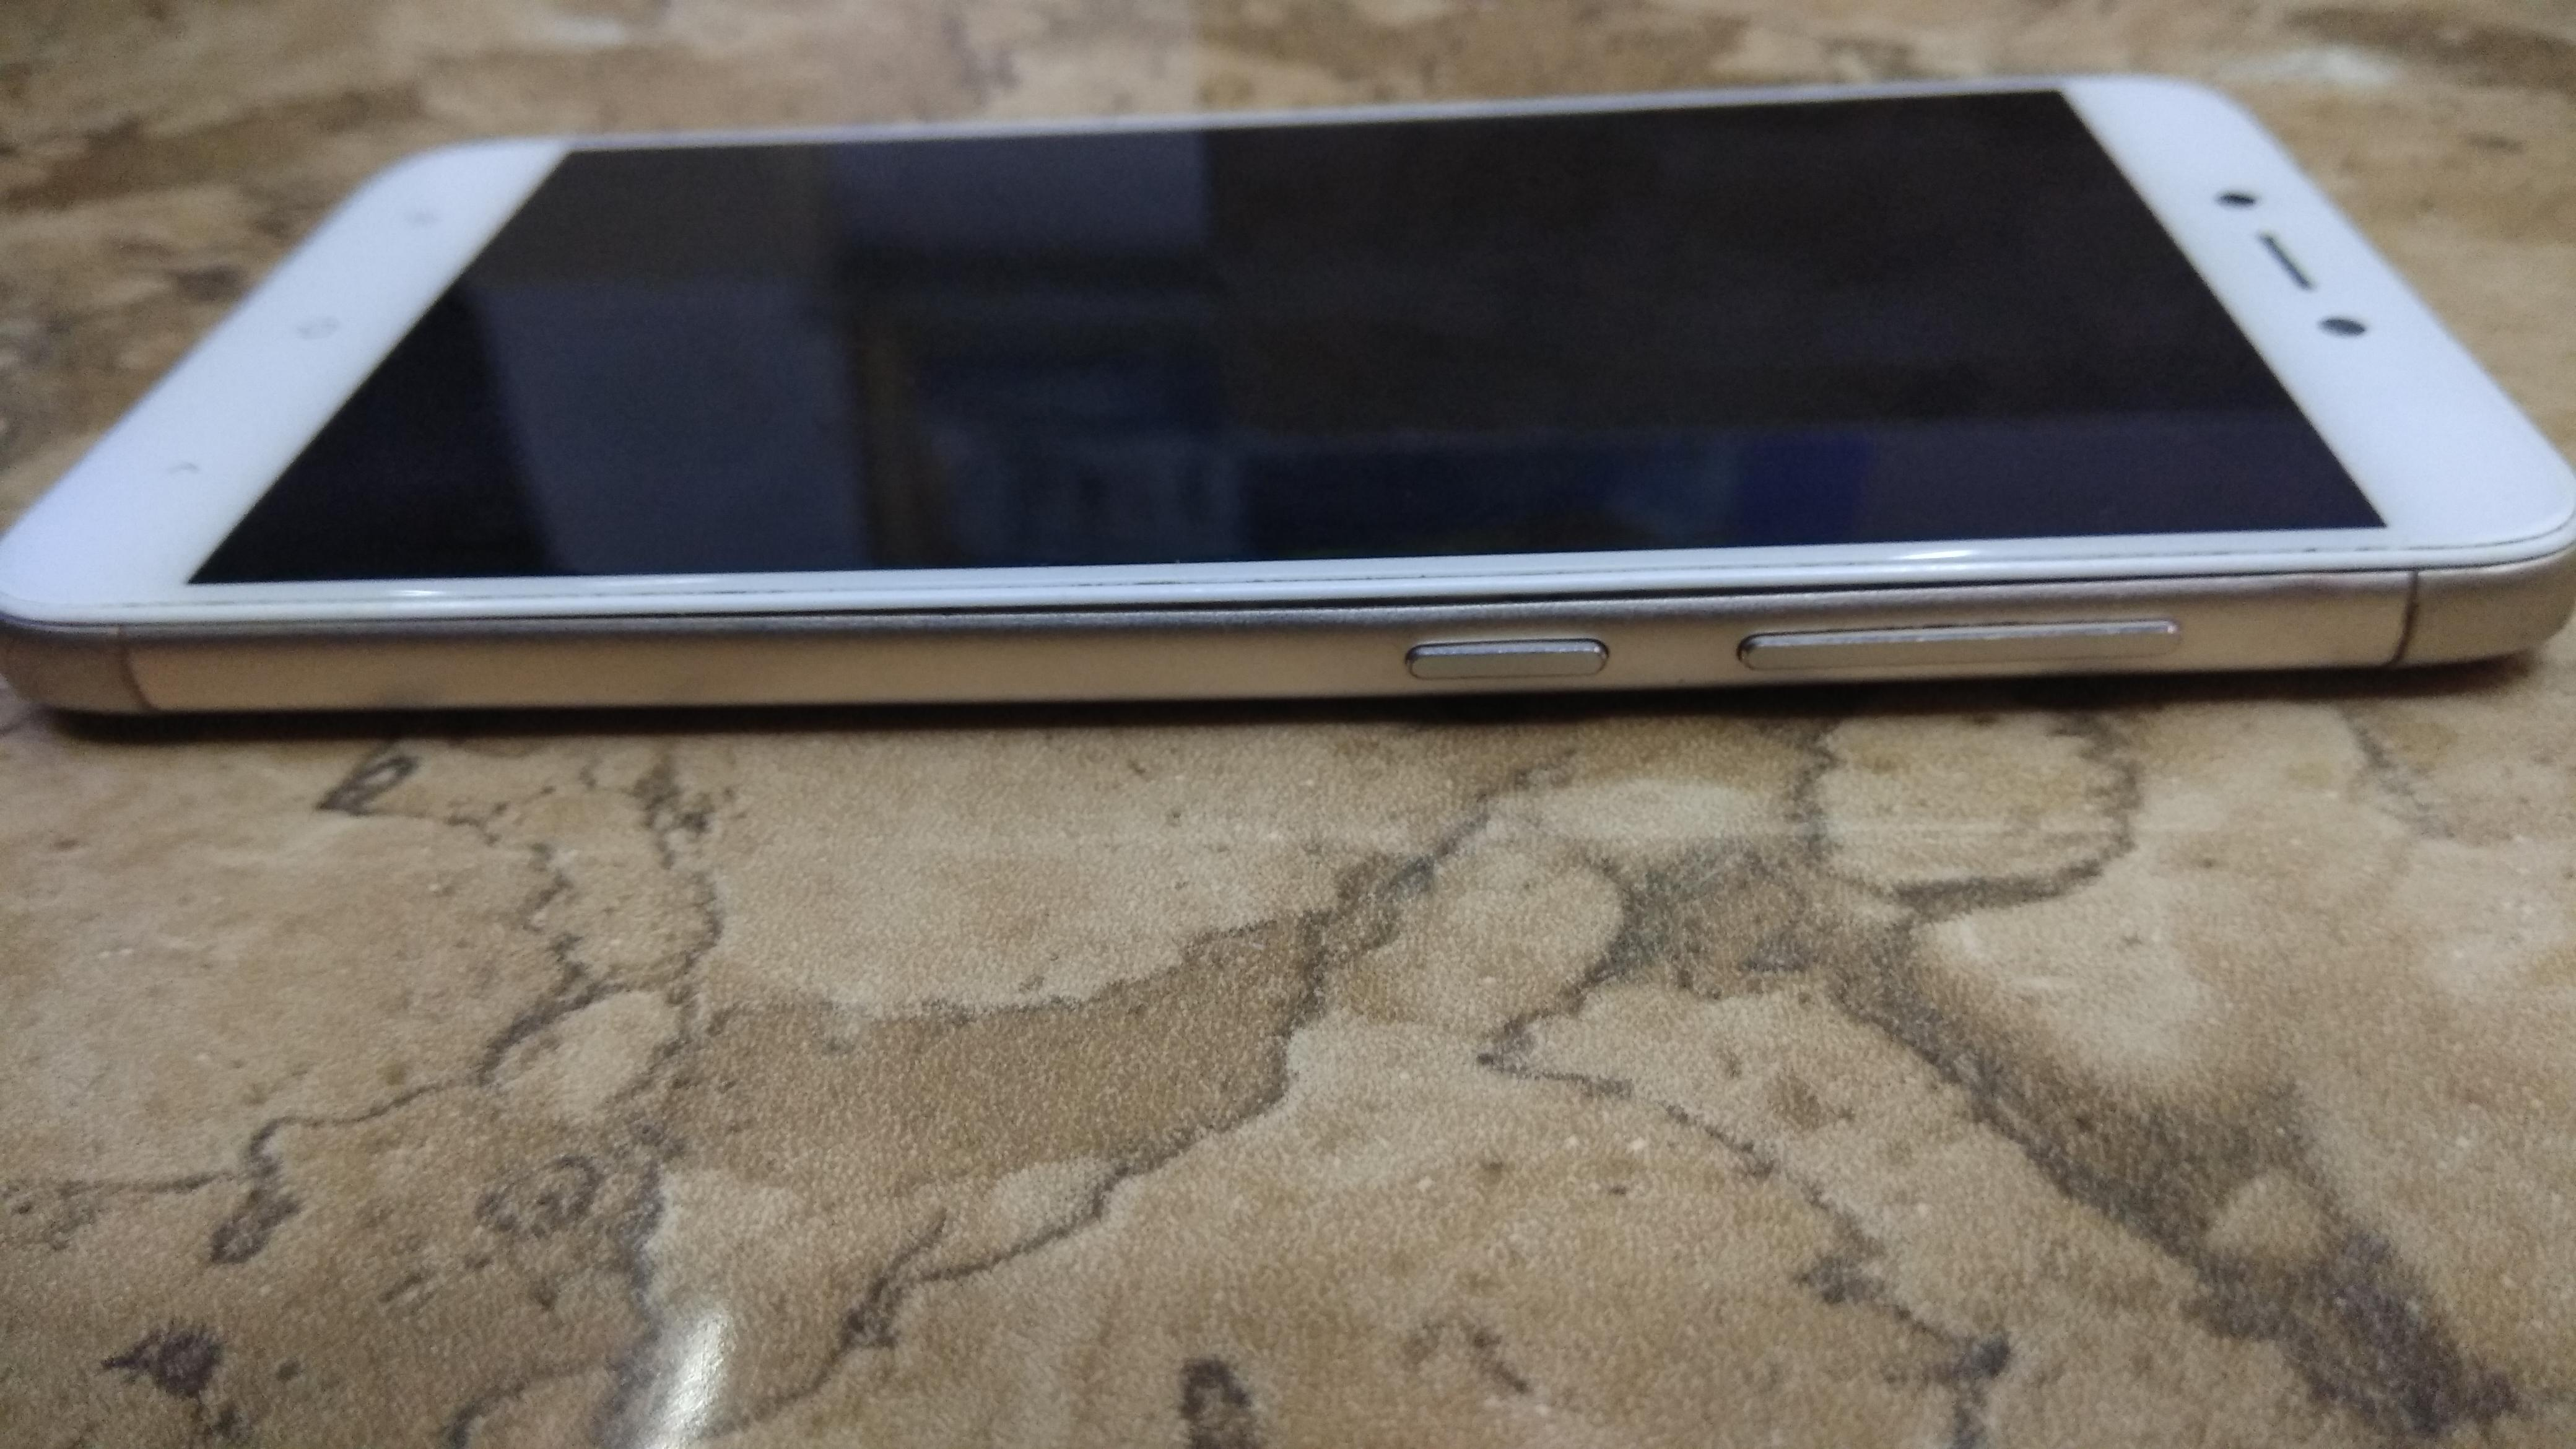Phone: (2, 50, 2576, 807)
